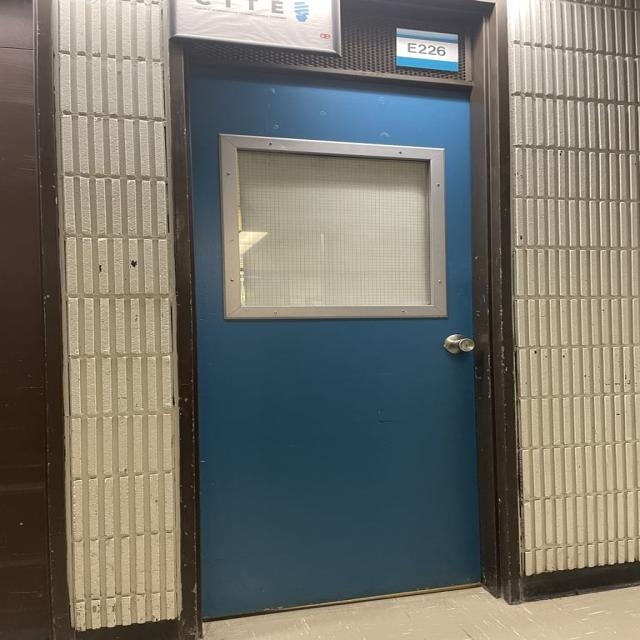door-knob: (443, 334, 475, 354)
